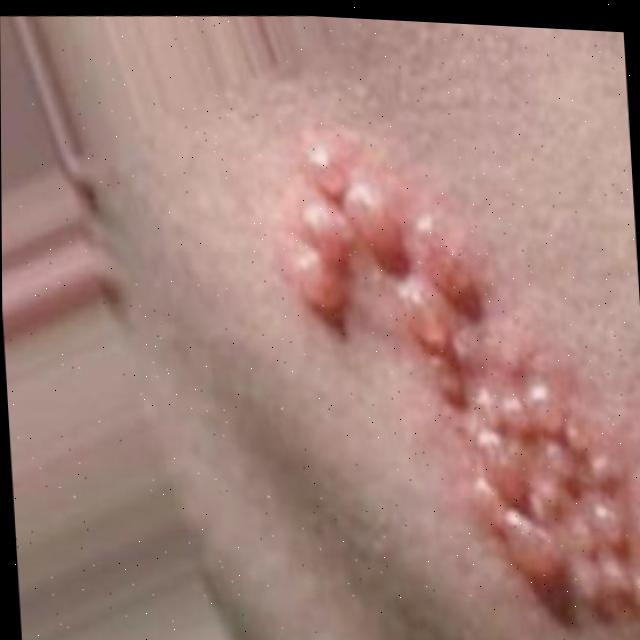Shingles: (266, 118, 640, 637)
